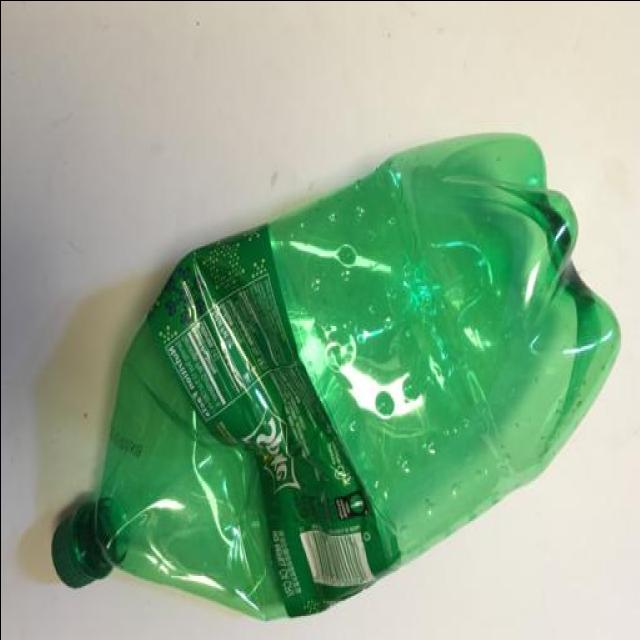non-organik: (13, 67, 621, 627)
